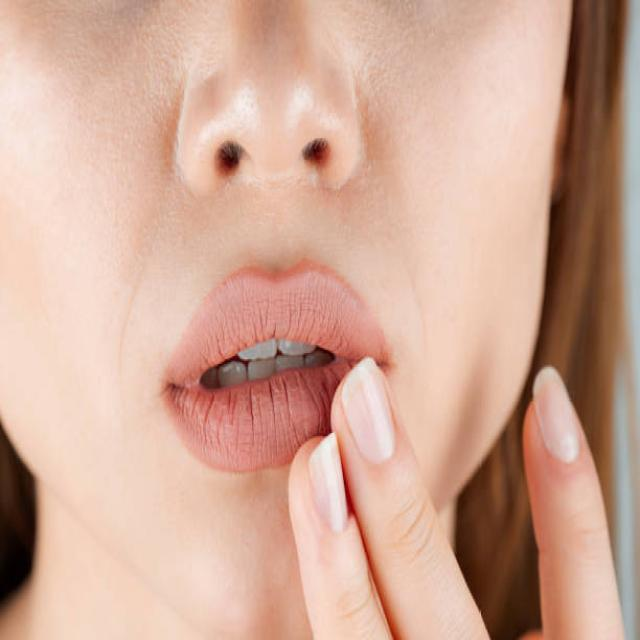Dry-Skin: (14, 28, 183, 330), (372, 41, 545, 336)
